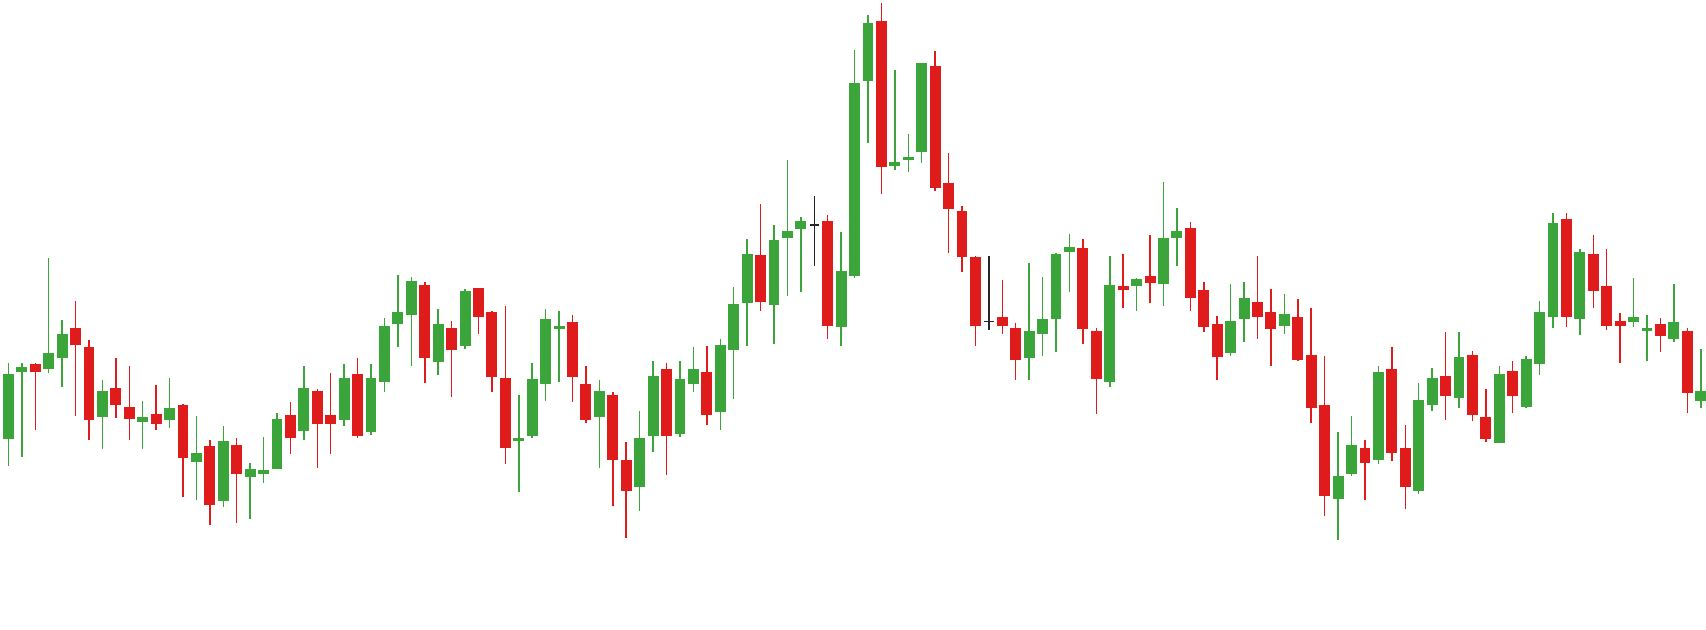buy: (512, 361, 647, 536)
